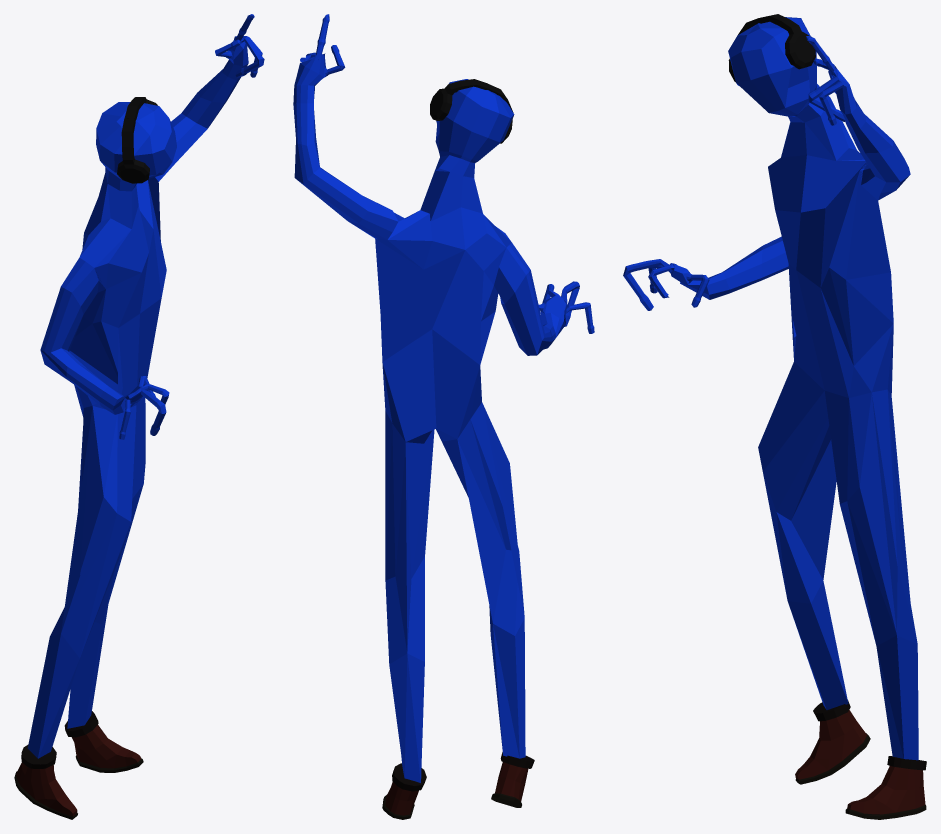
File: dj_anim_p2_f4.obj
The picture shows the model from 3 angles, left to right: view 1: azimuth 30°, elevation 25°; view 2: azimuth 150°, elevation 25°; view 3: azimuth 270°, elevation 25°; orthographic projection. The views are drawn at different scales.
Parts seen in each view (by area): view 1: dj_alien, Shoe, Headphones; view 2: dj_alien, Shoe, Headphones; view 3: dj_alien, Shoe, Headphones.
Boxes of the visible parts, bbox=[...] form: dj_alien: bbox=[27, 14, 264, 758]; Shoe: bbox=[14, 711, 143, 819]; Headphones: bbox=[117, 97, 157, 183]; dj_alien: bbox=[293, 14, 594, 782]; Shoe: bbox=[382, 752, 534, 819]; Headphones: bbox=[430, 79, 513, 143]; dj_alien: bbox=[623, 17, 918, 760]; Shoe: bbox=[795, 700, 926, 819]; Headphones: bbox=[728, 14, 815, 82].
Bounding box in the file's own units: 0.7596 × 2.33 × 0.7576.
